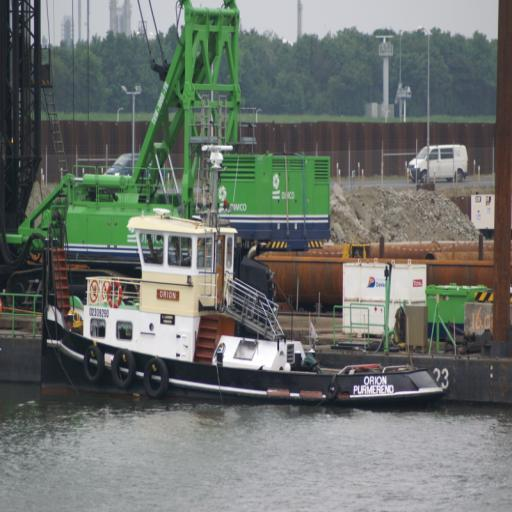tugboat: (41, 200, 447, 417)
